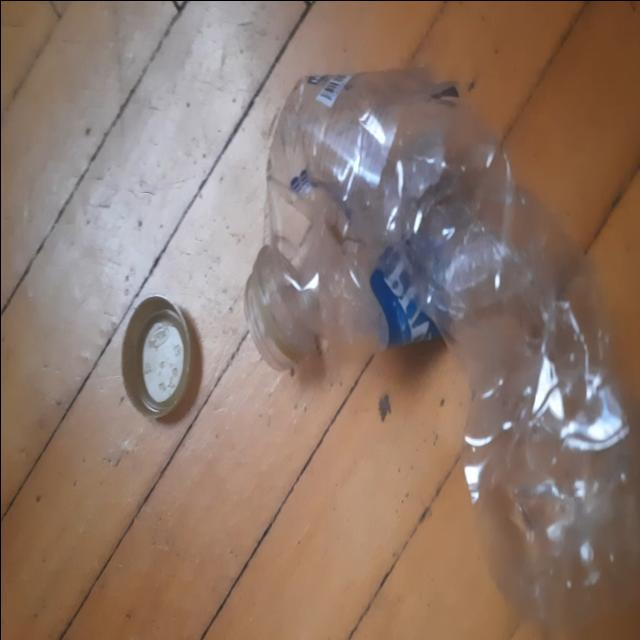Plastic: (244, 69, 638, 636)
